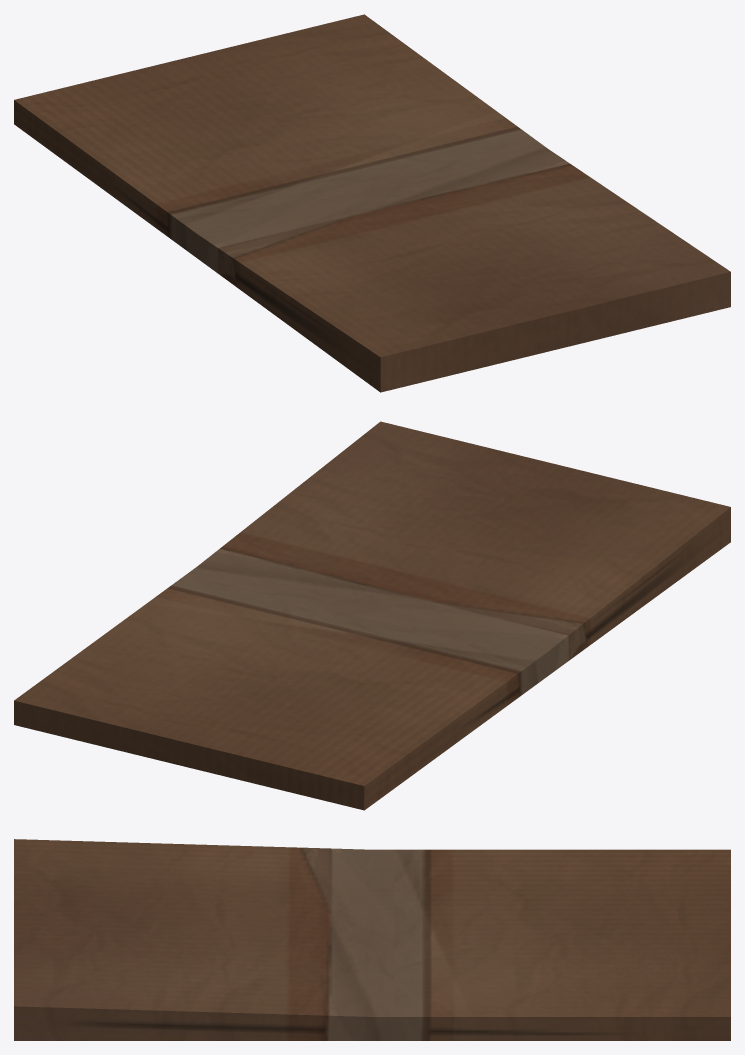
File: Flatterned_Cardboard_Box_2.FBX
3 renders of one model, top to bottom at view 1: azimuth 30°, elevation 25°; view 2: azimuth 150°, elevation 25°; view 3: azimuth 270°, elevation 25°, orthographic. The views are drawn at different scales.
Visible parts, largest first — view 1: Folded_Cardboard_2; view 2: Folded_Cardboard_2; view 3: Folded_Cardboard_2.
Boxes of the visible parts, x1,y1,x2,y2 form: Folded_Cardboard_2: [14, 14, 730, 392]; Folded_Cardboard_2: [14, 421, 730, 810]; Folded_Cardboard_2: [14, 839, 730, 1040].
Bounding box in the file's own units: 998 × 95.86 × 1807.
Materials: 1 (1 with a texture image).
